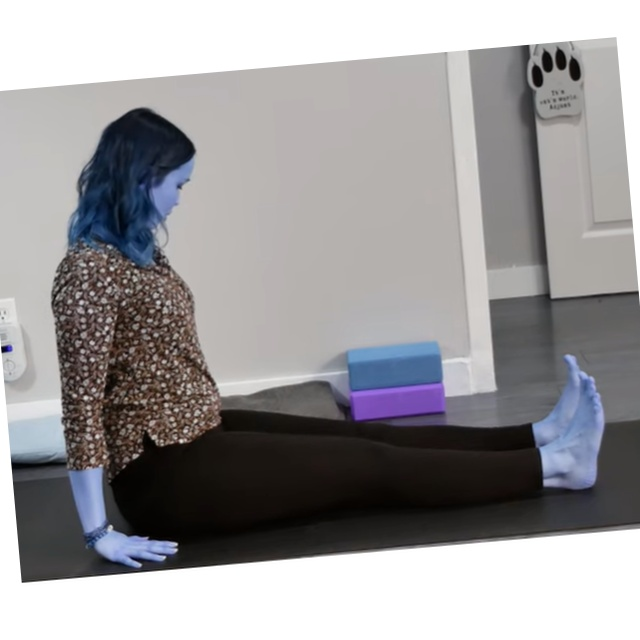Staff_Pose: (48, 101, 609, 573)
